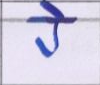e_matra: (40, 2, 68, 17)
